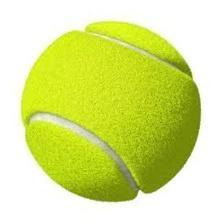Sports-Ball: (17, 20, 201, 207)
